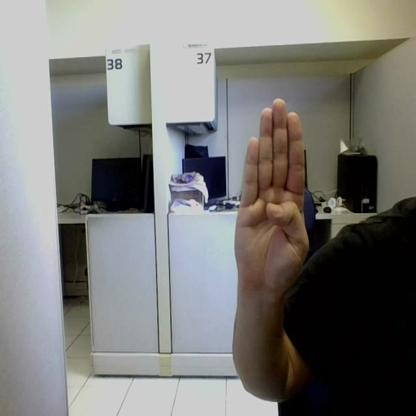B: (234, 99, 308, 286)
